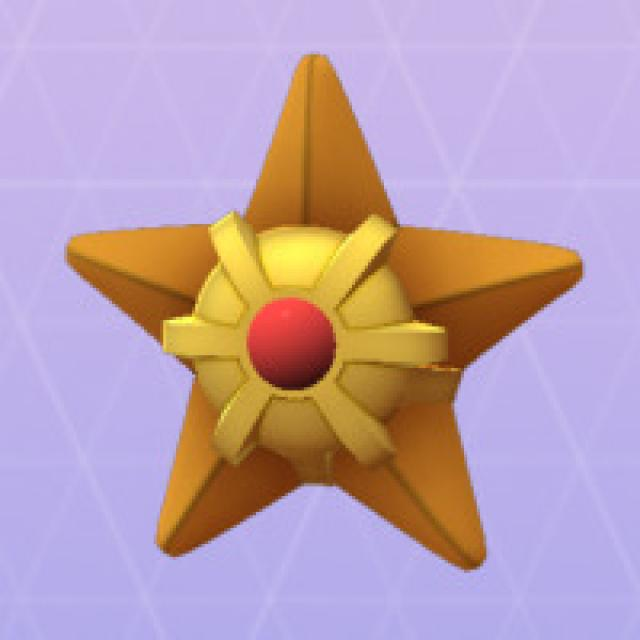Staryu: (44, 43, 598, 585)
